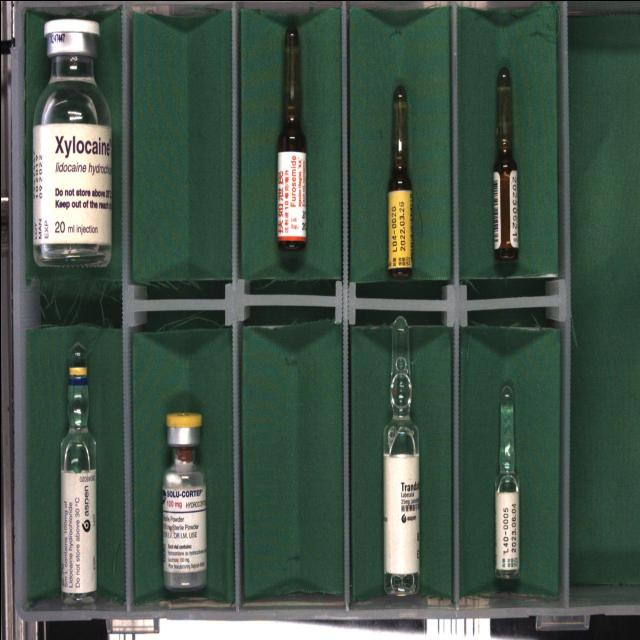Vials: (31, 18, 110, 265), (162, 412, 205, 589)
